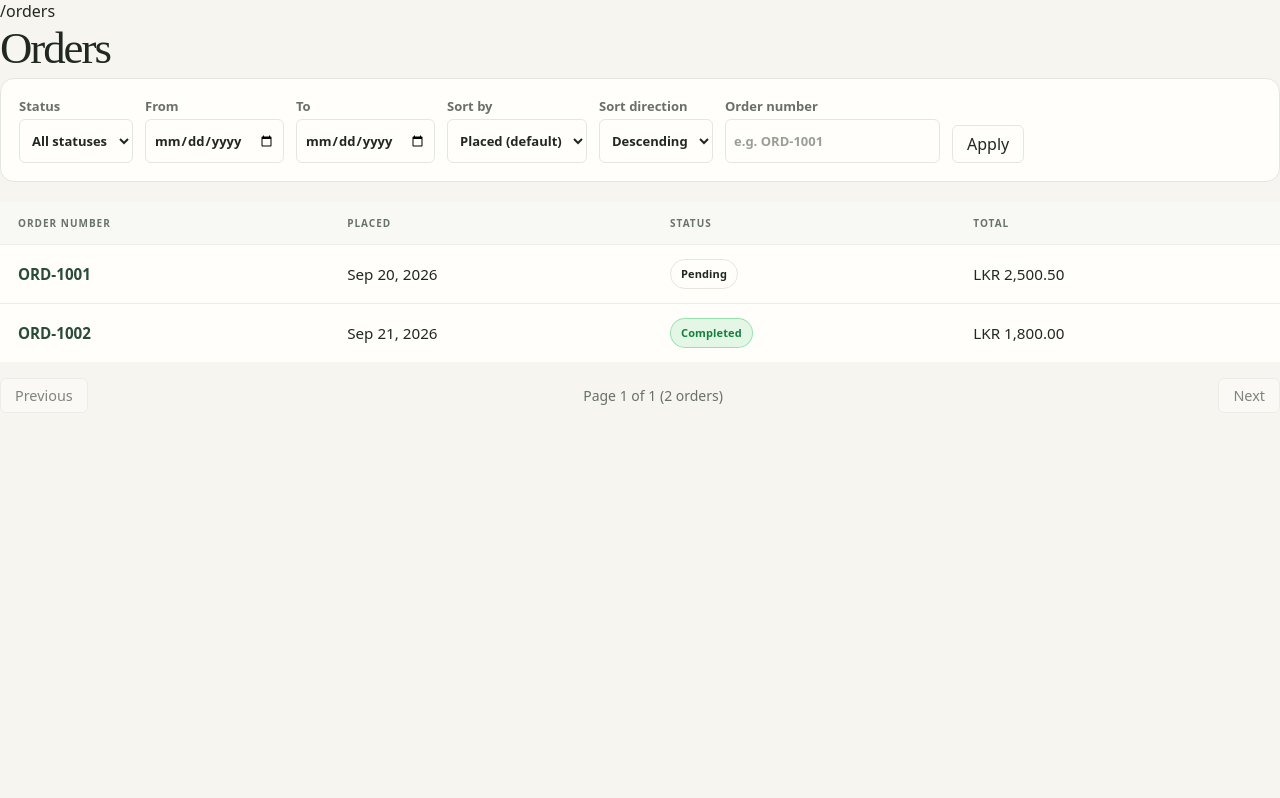
it: OrdersListPage › opens order details when an order is clicked
Click the link "ORD-1001".
click(54, 274)  # box [18,264,91,284]
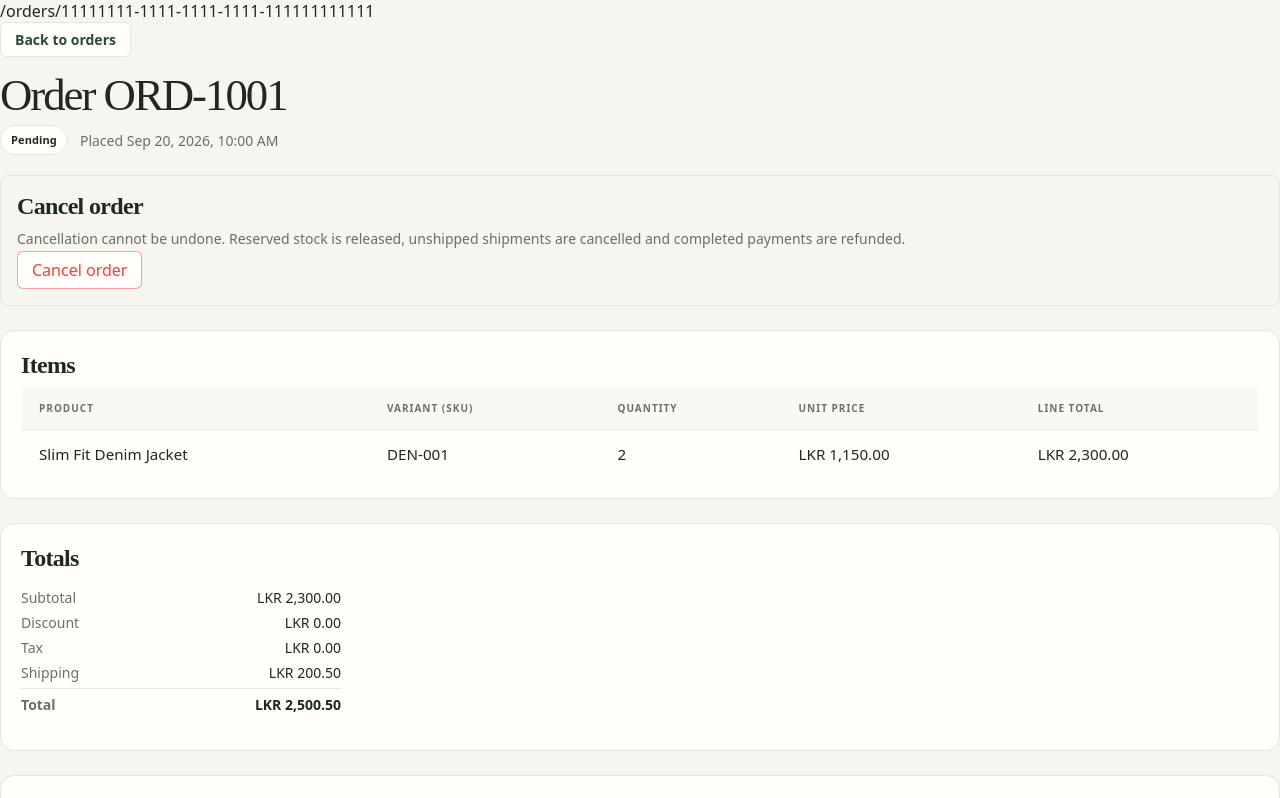
Check: the heading "Order ORD-1001" is shown, box [0,70,286,120]
Check: the text "Slim Fit Denim Jacket" is shown, box [21,430,369,478]
